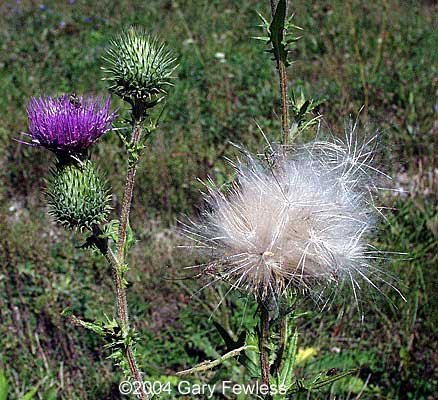thistle: (22, 93, 126, 231)
